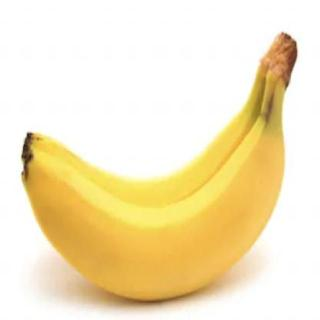banana: (21, 118, 287, 304), (23, 112, 278, 256)
